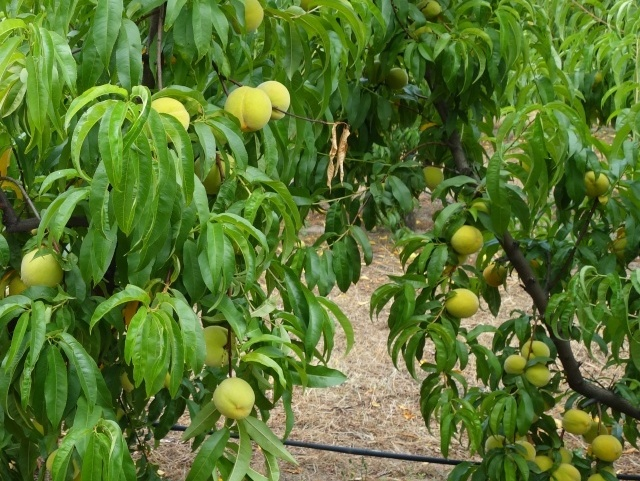peach: (219, 83, 275, 134), (208, 373, 258, 424), (189, 145, 240, 194), (16, 245, 66, 291), (148, 91, 192, 143), (196, 321, 240, 372), (254, 77, 297, 123), (442, 283, 481, 323), (449, 221, 487, 260), (560, 403, 596, 438), (230, 1, 267, 35), (590, 431, 625, 465), (519, 335, 553, 369), (522, 360, 554, 393), (416, 161, 446, 194), (509, 434, 539, 466), (480, 259, 510, 290), (581, 416, 611, 446), (580, 167, 611, 196), (499, 351, 529, 380), (482, 428, 511, 457), (383, 63, 412, 91), (545, 444, 576, 466), (548, 461, 582, 481), (528, 452, 554, 475)
